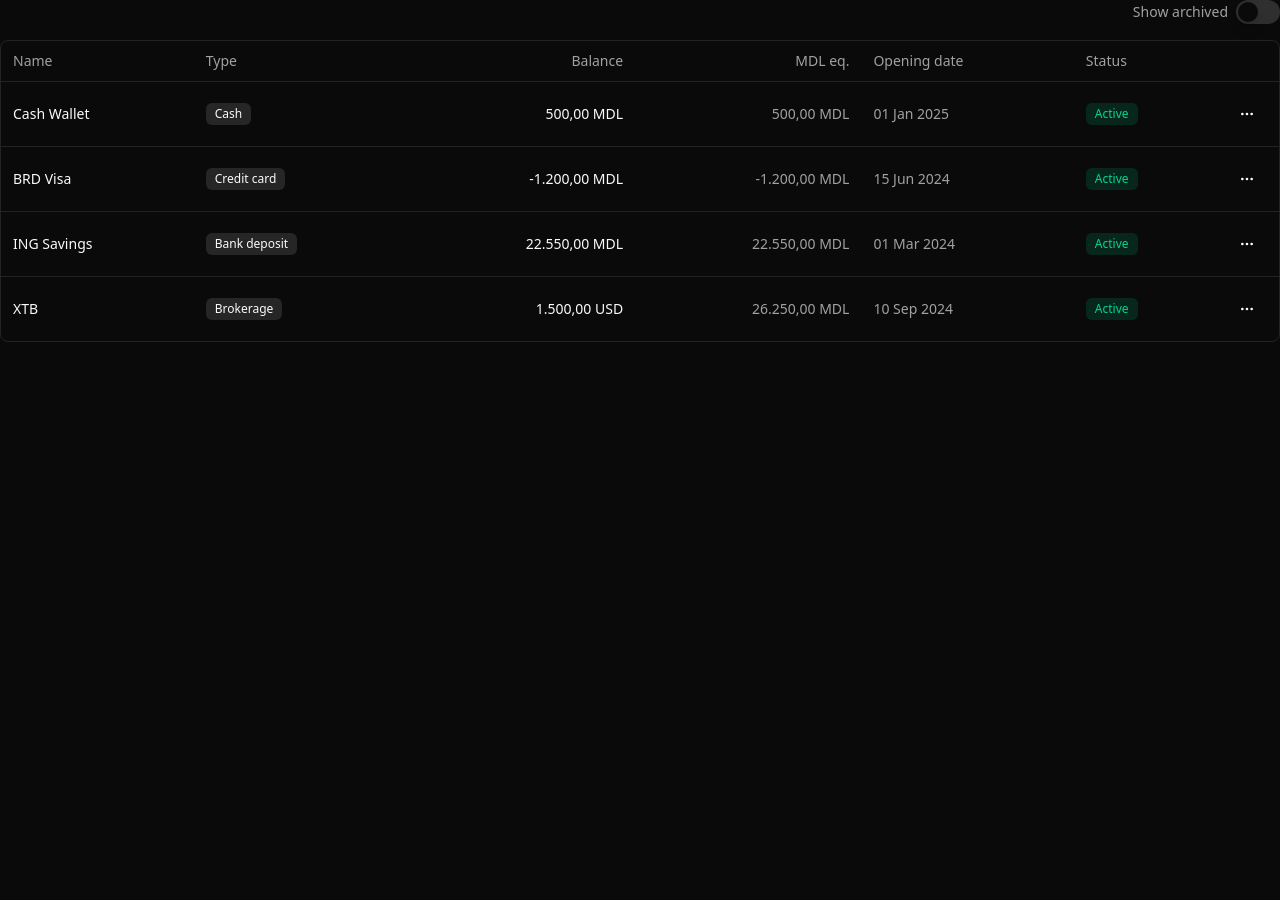
Test: AccountsTable navigation › surfaces the backend 409 message when the account still has history
The image size is (1280, 900).
Expected: the row "Cash Wallet" is shown, [1, 81, 1279, 146]
Click the button with test id "account-actions". click: [1247, 114]
box: [1227, 94, 1267, 134]
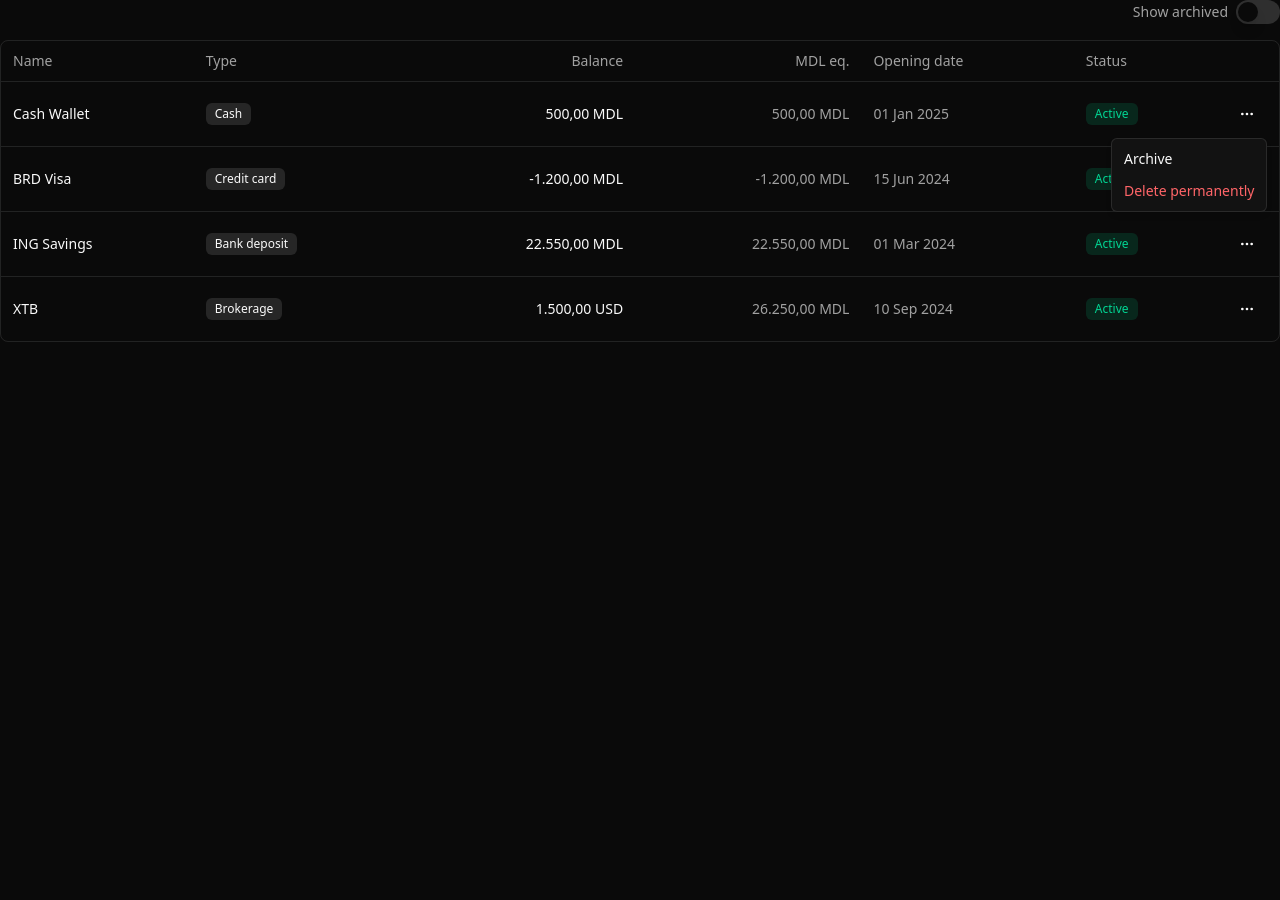
Click the menu item with test id "delete-account". click: [1189, 190]
box: [1124, 181, 1254, 200]
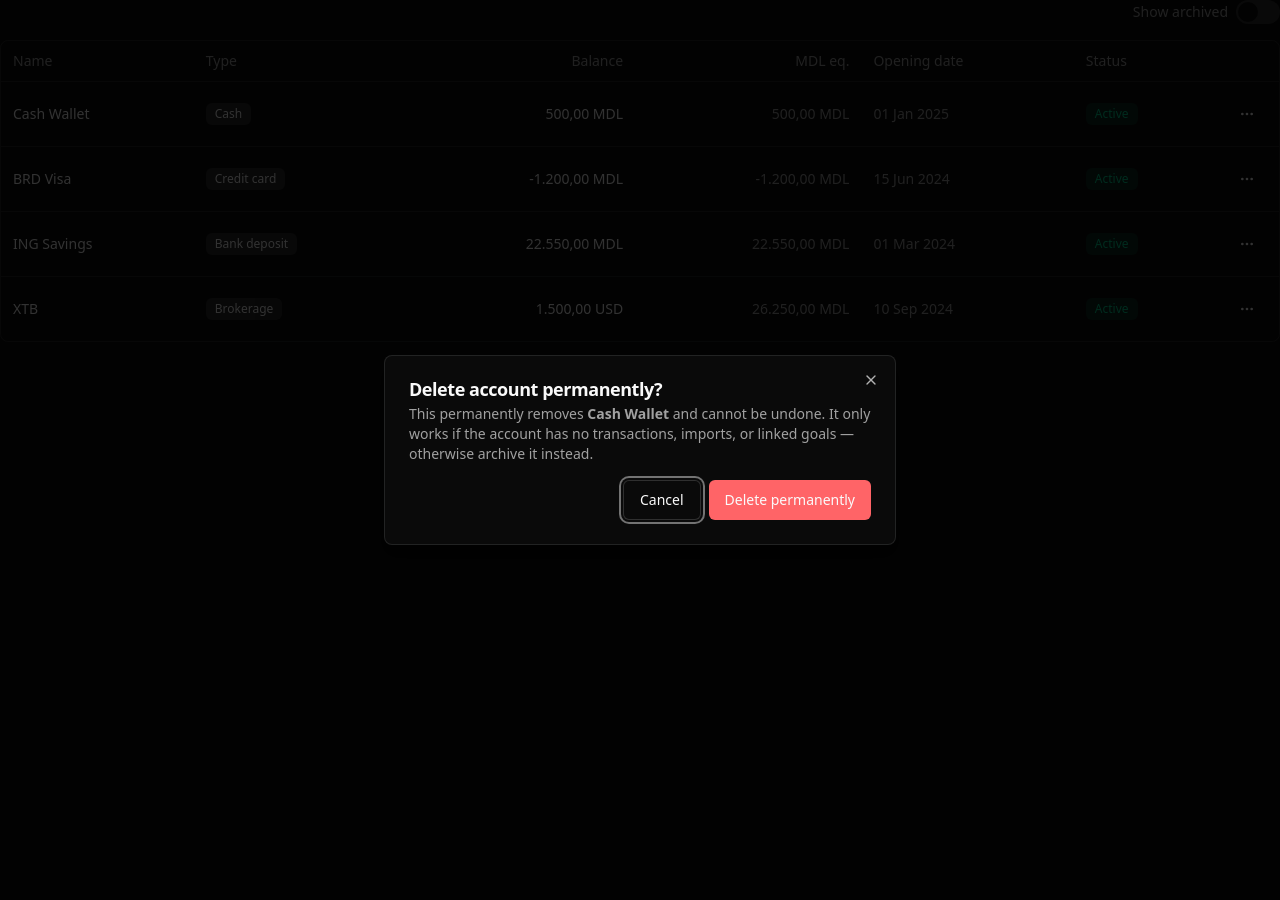
Click the button with test id "delete-account-confirm-button". click: [790, 500]
box: [708, 480, 871, 520]
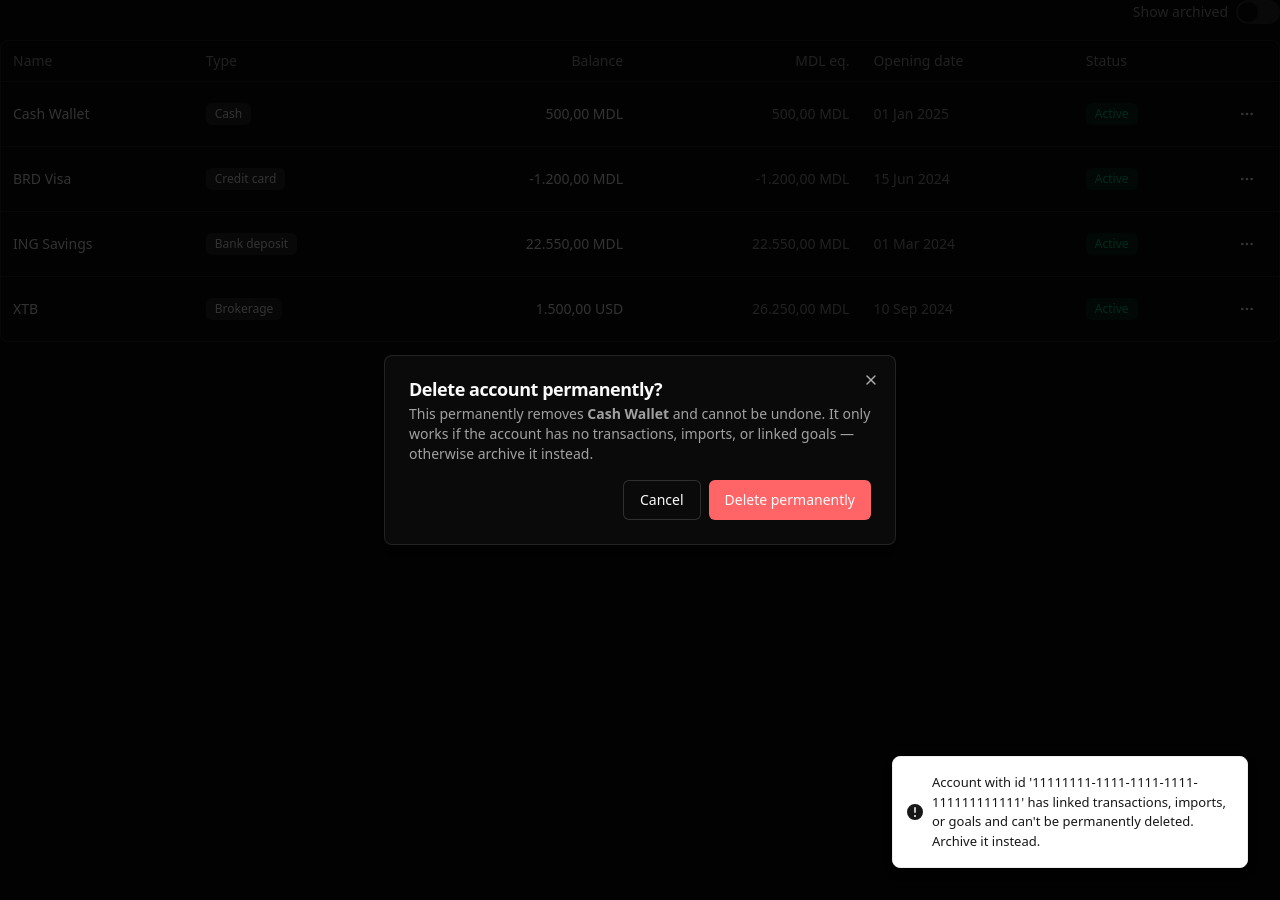
Expected: the text "can't be permanently deleted" is shown, [932, 773, 1226, 850]
